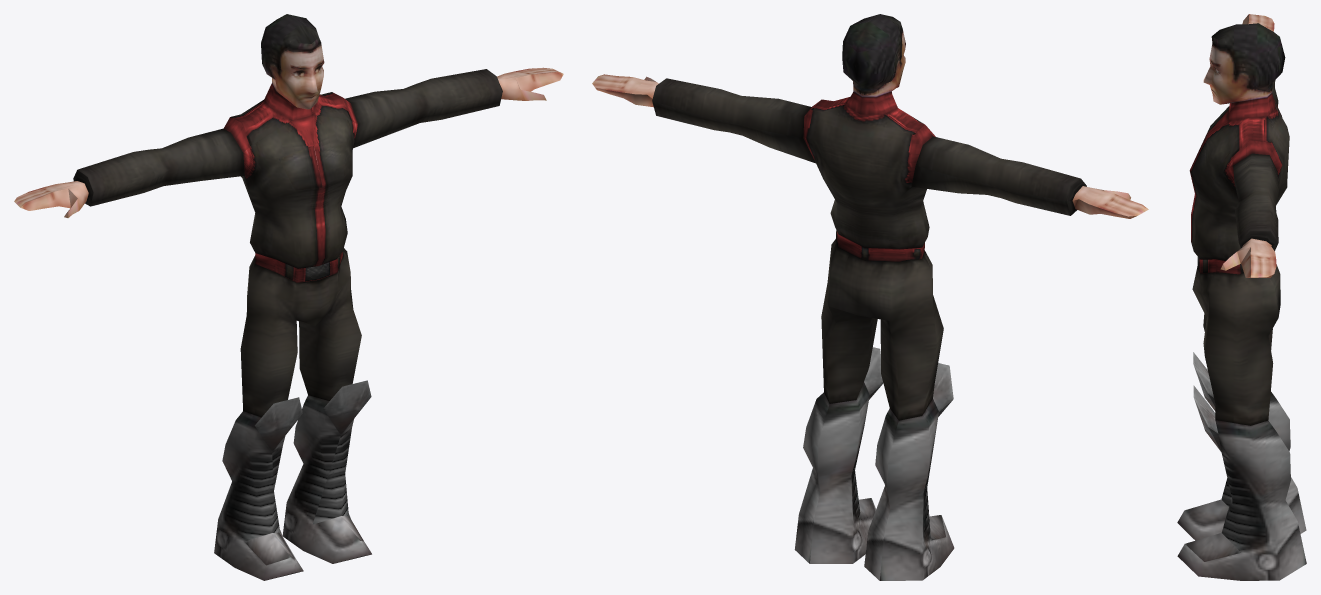
File: testhuman.DAE
The picture shows the model from 3 angles, left to right: view 1: azimuth 30°, elevation 25°; view 2: azimuth 150°, elevation 25°; view 3: azimuth 270°, elevation 25°; orthographic projection.
Visible parts, largest first — view 1: testhuman; view 2: testhuman; view 3: testhuman.
Boxes of the visible parts, bbox=[...] form: testhuman: bbox=[14, 14, 563, 580]; testhuman: bbox=[592, 14, 1148, 580]; testhuman: bbox=[1177, 14, 1306, 580].
Size of the model in its own units: 1.91 by 1.78 by 0.3966.
Materials: 1 (1 with a texture image).
